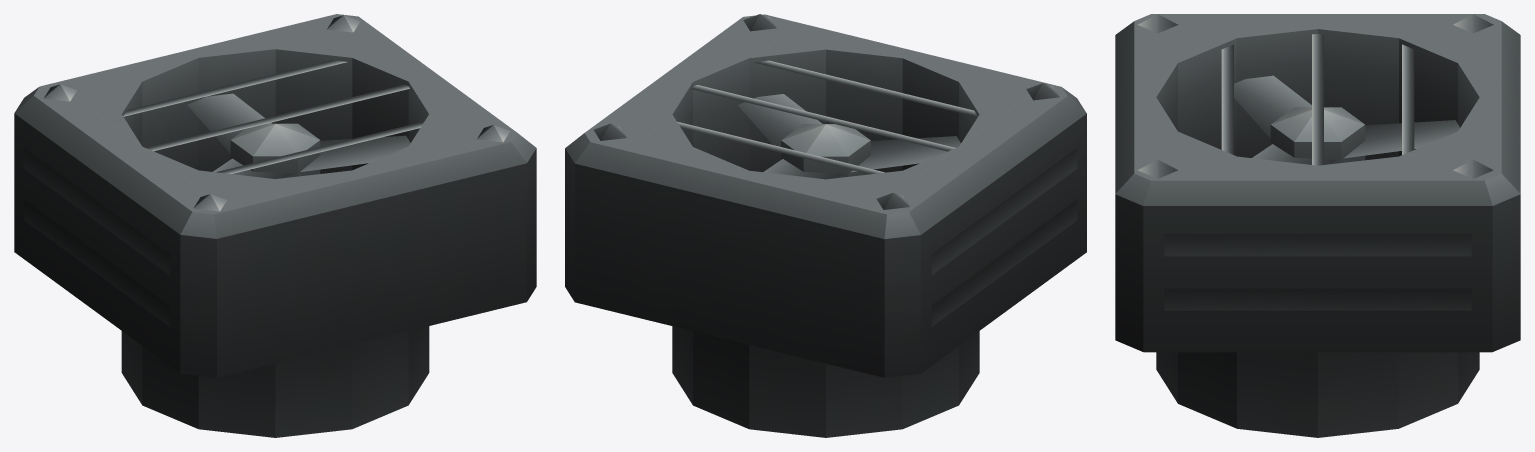
Rendered from Air_Vent_2A.fbx.
3 renders of one model, left to right at view 1: azimuth 30°, elevation 25°; view 2: azimuth 150°, elevation 25°; view 3: azimuth 270°, elevation 25°, orthographic. The views are drawn at different scales.
Parts seen in each view (by area): view 1: Air_Vent_2A, Fan; view 2: Air_Vent_2A, Fan; view 3: Air_Vent_2A, Fan.
Part boxes in pixels (x1=…): Air_Vent_2A: x1=14, y1=14, x2=536, y2=437; Fan: x1=187, y1=93, x2=410, y2=178; Air_Vent_2A: x1=565, y1=14, x2=1086, y2=437; Fan: x1=737, y1=94, x2=960, y2=179; Air_Vent_2A: x1=1115, y1=14, x2=1520, y2=437; Fan: x1=1234, y1=75, x2=1459, y2=164.
Bounding box in the file's own units: 1.44 × 1.04 × 1.35.
